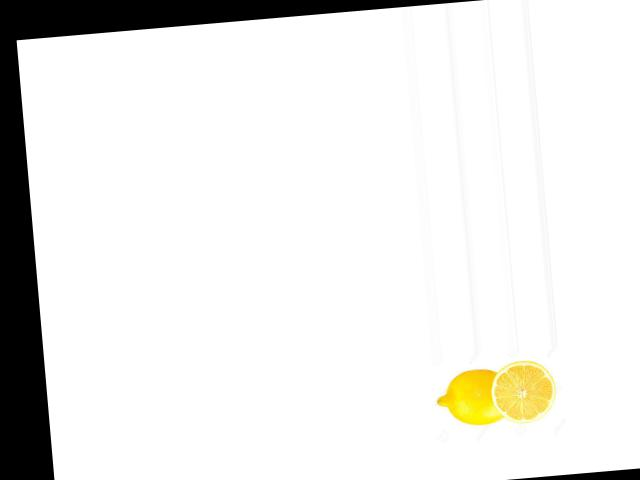lemon: (433, 358, 513, 431)
